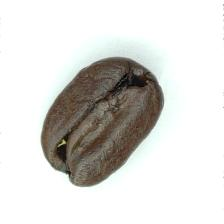NG: (53, 66, 147, 166)
